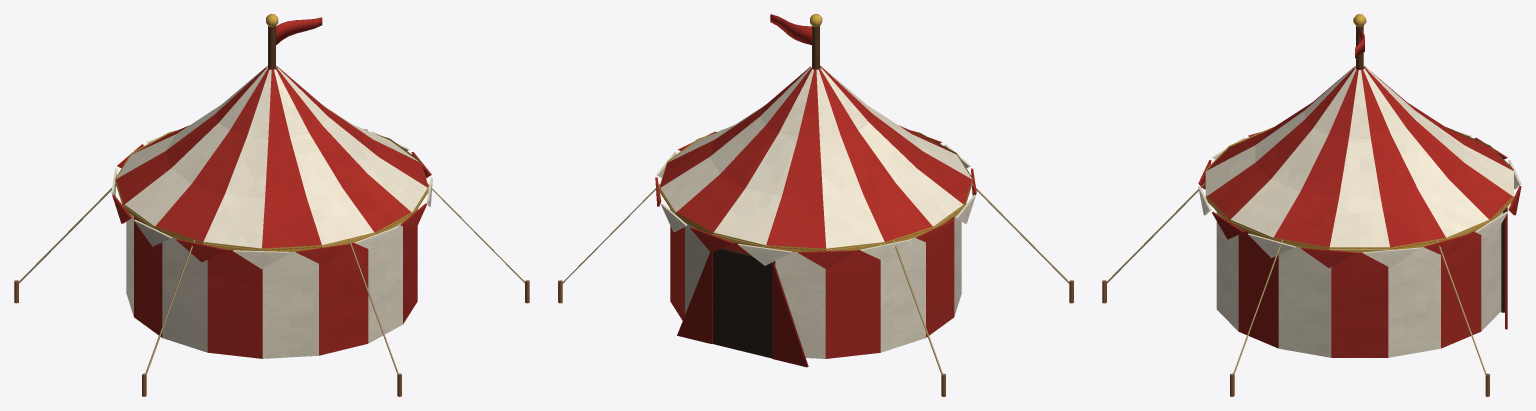
The model's file is tenda_padiglione.glb.
The picture shows the model from 3 angles, left to right: view 1: azimuth 30°, elevation 25°; view 2: azimuth 150°, elevation 25°; view 3: azimuth 270°, elevation 25°; orthographic projection.
Parts seen in each view (by area): view 1: SM_tenda_padiglione; view 2: SM_tenda_padiglione; view 3: SM_tenda_padiglione.
Boxes of the visible parts, x1,y1,x2,y2 form: SM_tenda_padiglione: (14,14,529,396); SM_tenda_padiglione: (558,14,1073,396); SM_tenda_padiglione: (1102,14,1521,396).
Size of the model in its own units: 3.98 by 2.83 by 3.73.
Materials: 1 (1 with a texture image).
